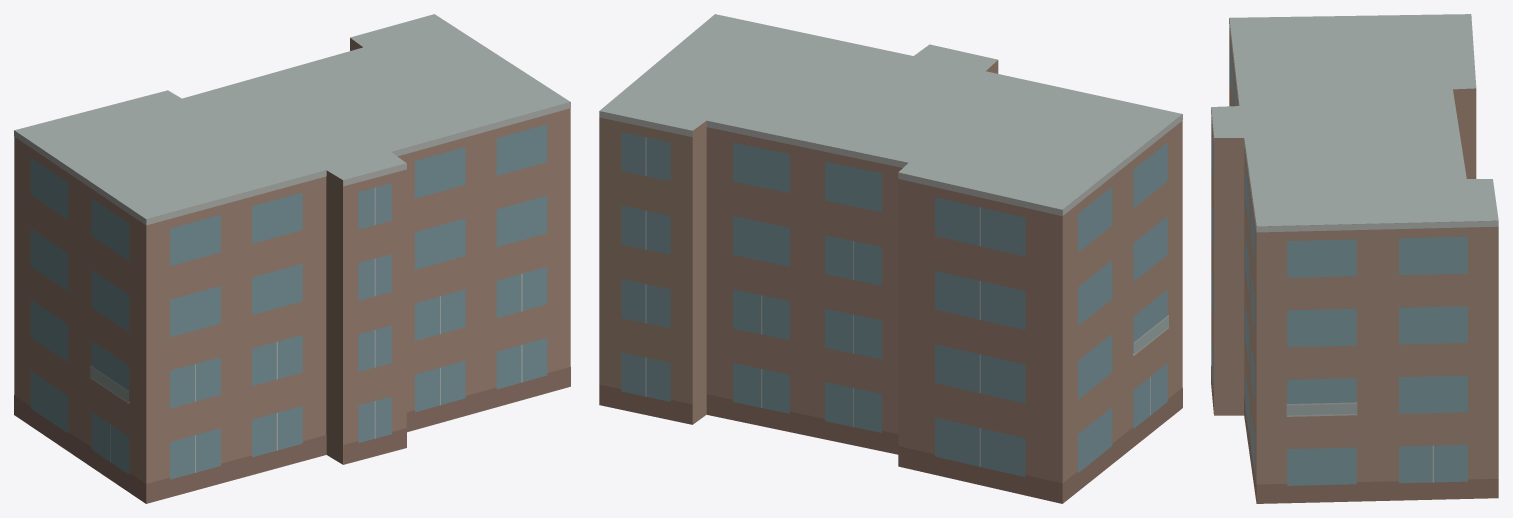
Rendered from survey-upis-32597949.glb.
3 views of the same model, side by side, from view 1: azimuth 30°, elevation 25°; view 2: azimuth 150°, elevation 25°; view 3: azimuth 270°, elevation 25° (orthographic). The views are drawn at different scales.
Visible parts, largest first — view 1: survey-upis-32597949.tmp; view 2: survey-upis-32597949.tmp; view 3: survey-upis-32597949.tmp.
Boxes of the visible parts, x1,y1,x2,y2 form: survey-upis-32597949.tmp: [14, 14, 570, 503]; survey-upis-32597949.tmp: [599, 14, 1182, 503]; survey-upis-32597949.tmp: [1211, 14, 1498, 503].
Size of the model in its own units: 18.31 by 11.15 by 10.48.
